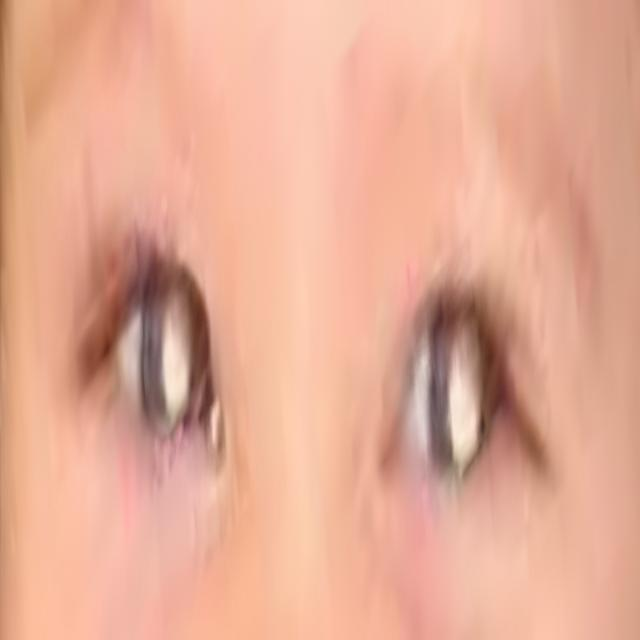reflexo-alterado: (99, 212, 233, 542), (380, 301, 551, 557)
